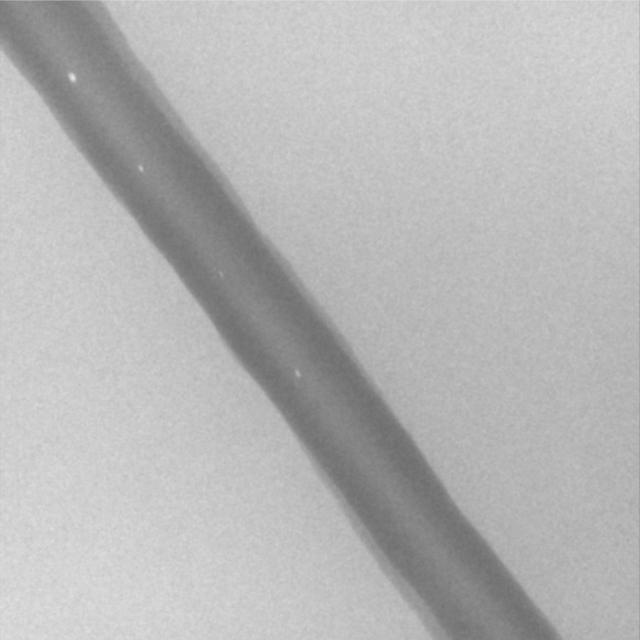air hole: (293, 366, 303, 379), (66, 71, 76, 84), (136, 162, 145, 174), (217, 271, 225, 280)
